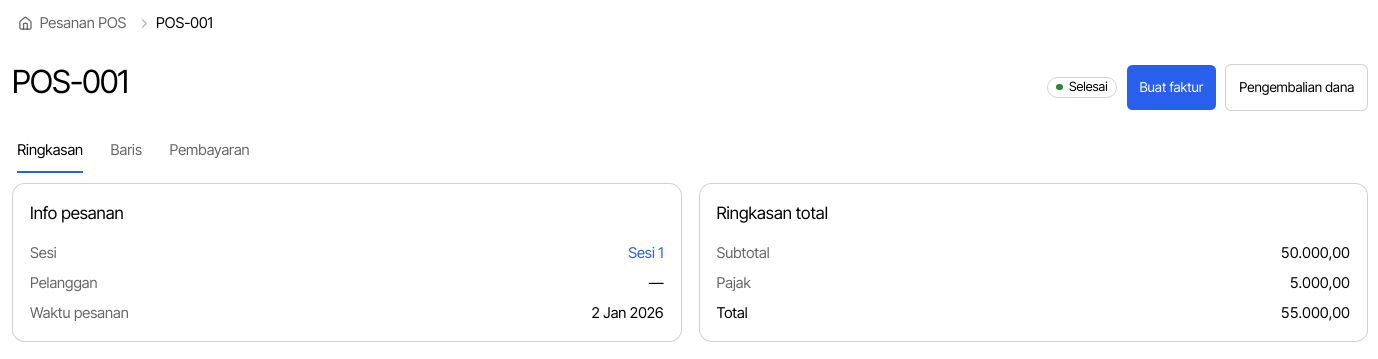
Test: PosOrderDetail branches2 › renders empty lines and empty payments branches
Expected: the heading "POS-001" is shown, [12,64,128,100]
What coordinates should you click on to do the following:
click the tab "Baris"
I would click on:
 (126, 151)
Its box is [110,128,143,174].
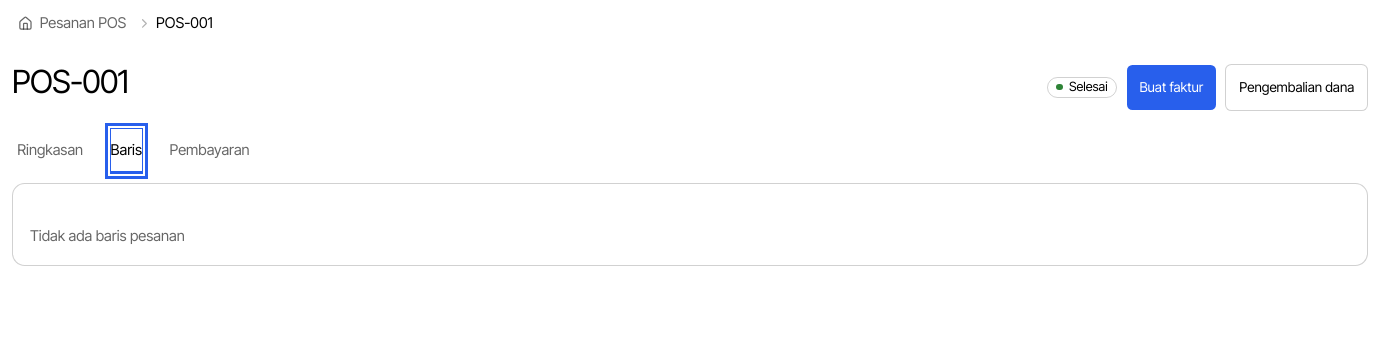
Result: the text "Tidak ada baris pesanan" is shown at [30,227,185,245]
What coordinates should you click on to do the following:
click the tab "Pembayaran"
I would click on:
 (210, 151)
Its box is [168,128,251,174].
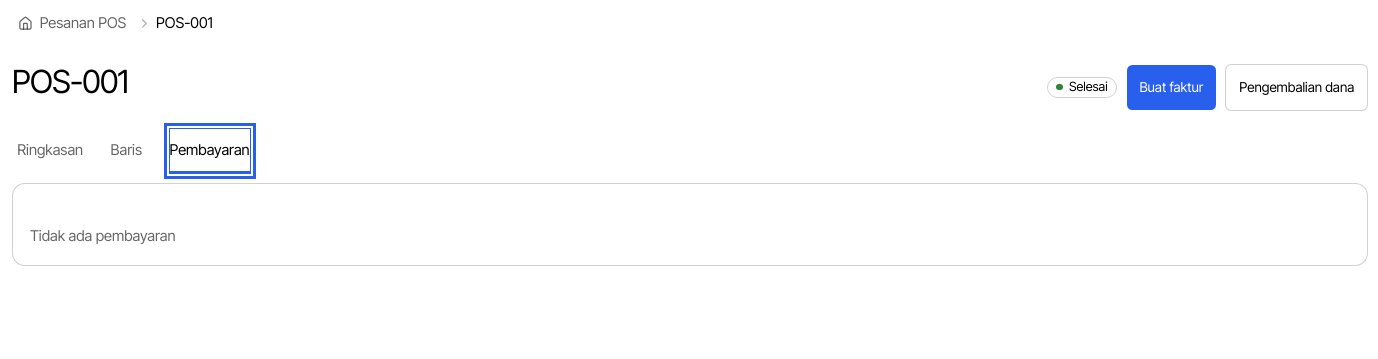
Result: the text "Tidak ada pembayaran" is shown at [30,227,176,245]
